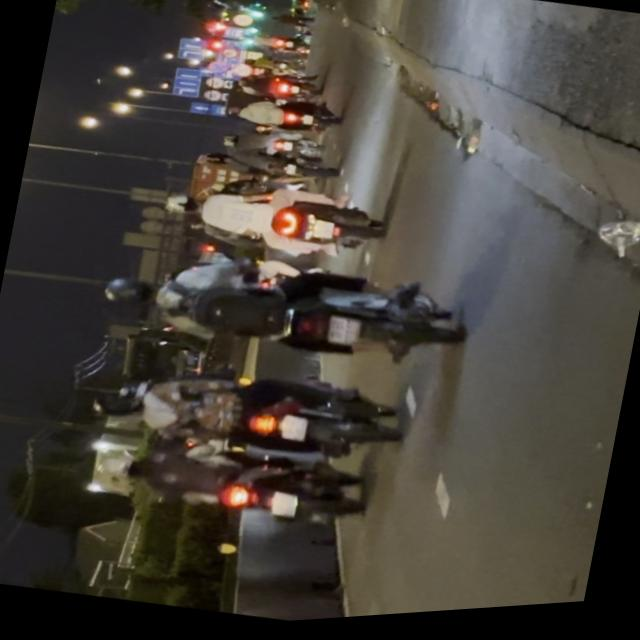helmet: (98, 274, 158, 316), (94, 447, 148, 488), (90, 391, 142, 426)
licenseplate: (91, 225, 467, 402), (86, 338, 406, 494), (86, 415, 374, 551)
nohelmet: (324, 320, 358, 352), (276, 418, 306, 449), (267, 494, 297, 524)
